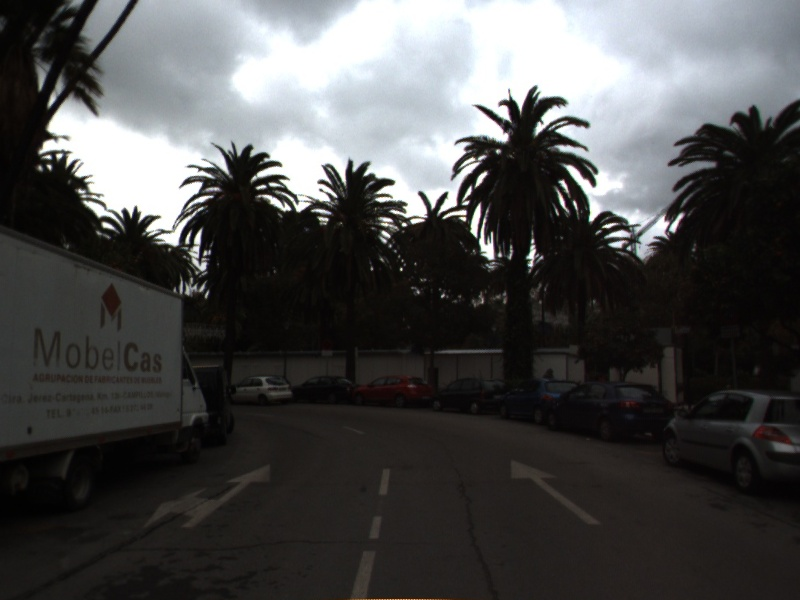STRAIGHT: (508, 457, 603, 526)
STRAIGHT_LEFT: (141, 462, 273, 530)
